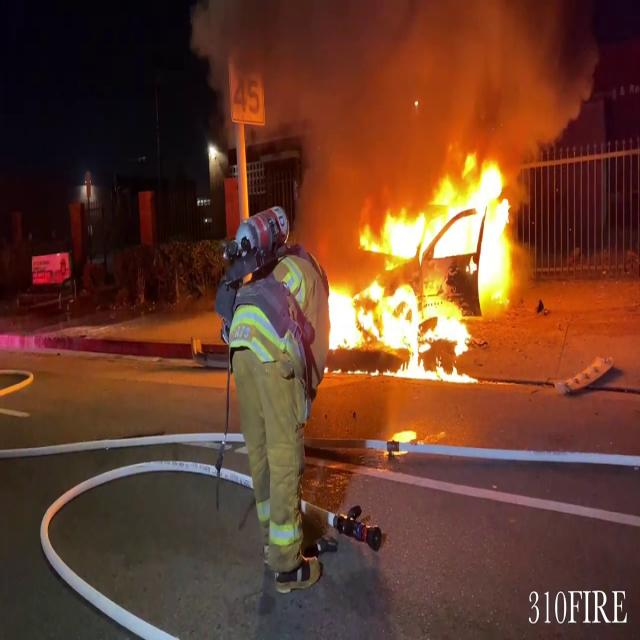Fire: (323, 144, 536, 380)
Smoke: (184, 0, 592, 180)
